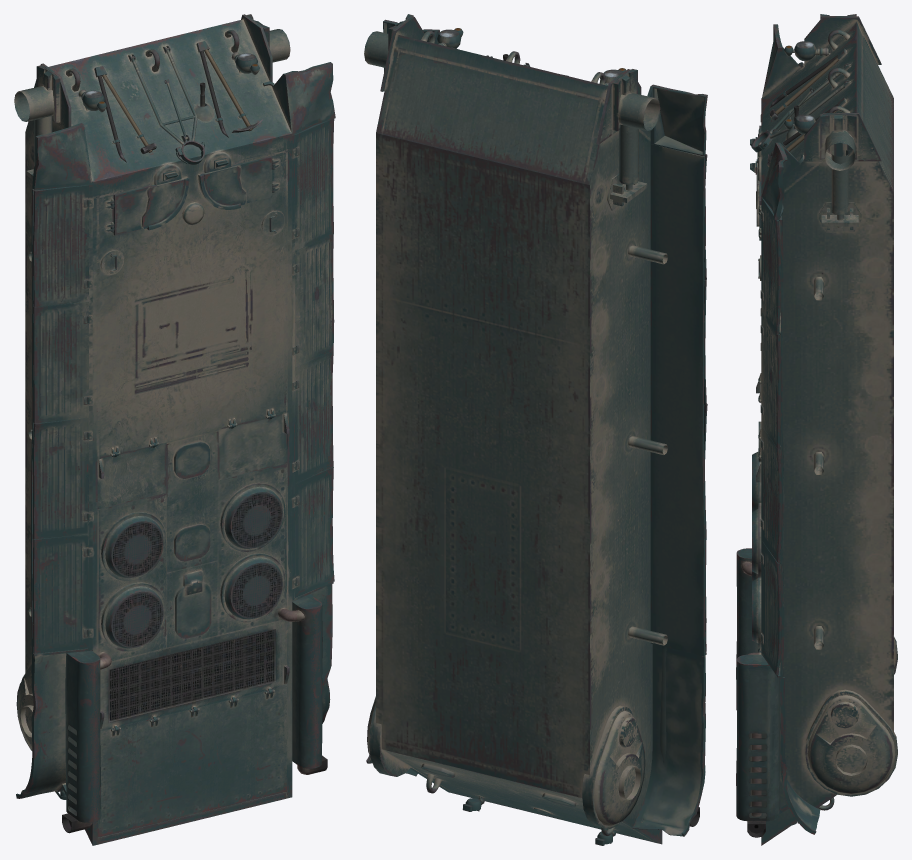
The model's file is Hull.glb.
The picture shows the model from 3 angles, left to right: view 1: azimuth 30°, elevation 25°; view 2: azimuth 150°, elevation 25°; view 3: azimuth 270°, elevation 25°; orthographic projection. The views are drawn at different scales.
Visible parts, largest first — view 1: set_0_group_0; view 2: set_0_group_0; view 3: set_0_group_0.
Part boxes in pixels (left/top/right/bottom): set_0_group_0: left=14, top=14, right=335, bottom=845; set_0_group_0: left=364, top=14, right=707, bottom=845; set_0_group_0: left=736, top=14, right=897, bottom=845.
Bounding box in the file's own units: 3.29 × 7.79 × 1.56.
1 material, 1 textured.
